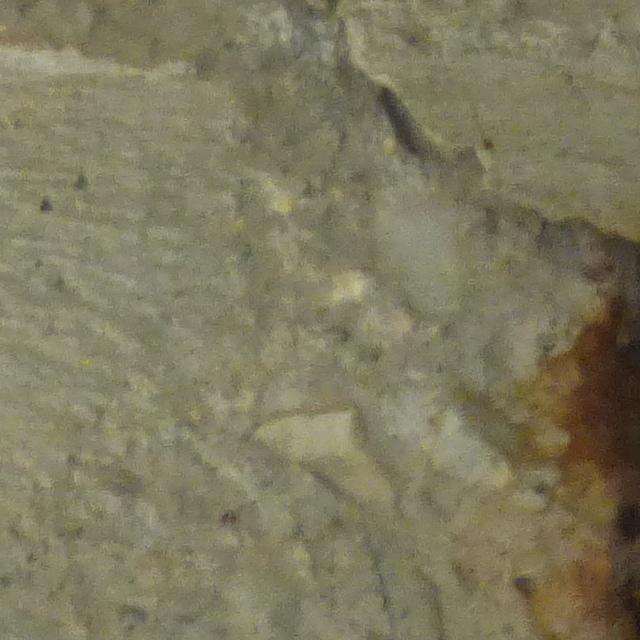Rust: (565, 258, 640, 640)
